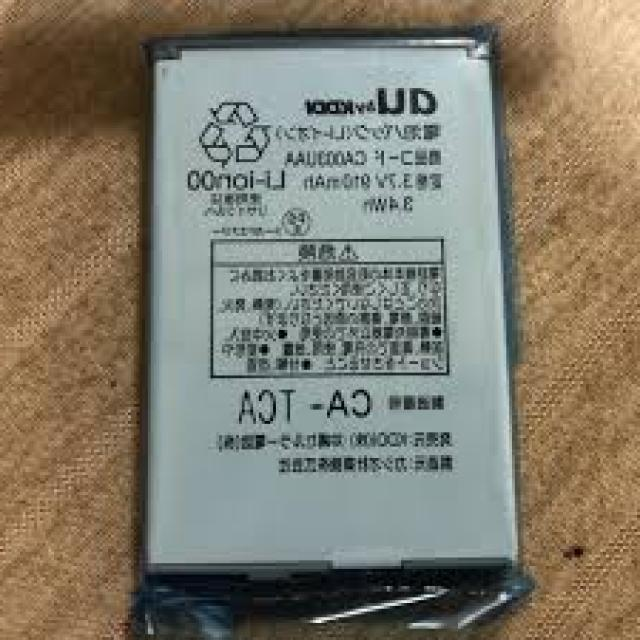battery: (134, 23, 522, 594)
